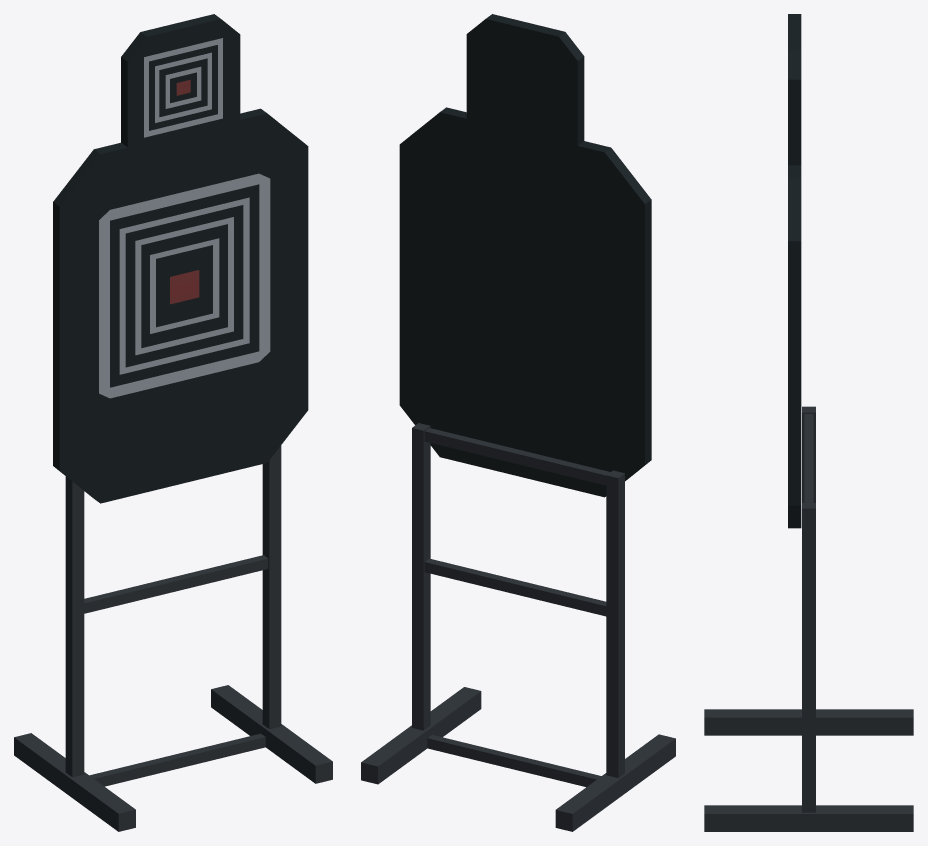
File: ShootingTarget_01.fbx
The picture shows the model from 3 angles, left to right: view 1: azimuth 30°, elevation 25°; view 2: azimuth 150°, elevation 25°; view 3: azimuth 270°, elevation 25°; orthographic projection.
Parts seen in each view (by area): view 1: ShootingTarget_01; view 2: ShootingTarget_01; view 3: ShootingTarget_01.
Part boxes in pixels (bbox=[...]): ShootingTarget_01: bbox=[14, 14, 332, 831]; ShootingTarget_01: bbox=[361, 14, 675, 831]; ShootingTarget_01: bbox=[704, 14, 913, 831].
Size of the model in its own units: 61.83 by 178 by 45.09.
